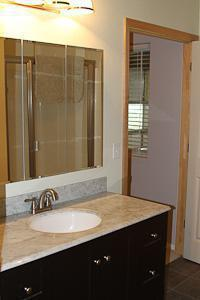Lavamanos: (16, 184, 105, 243)
